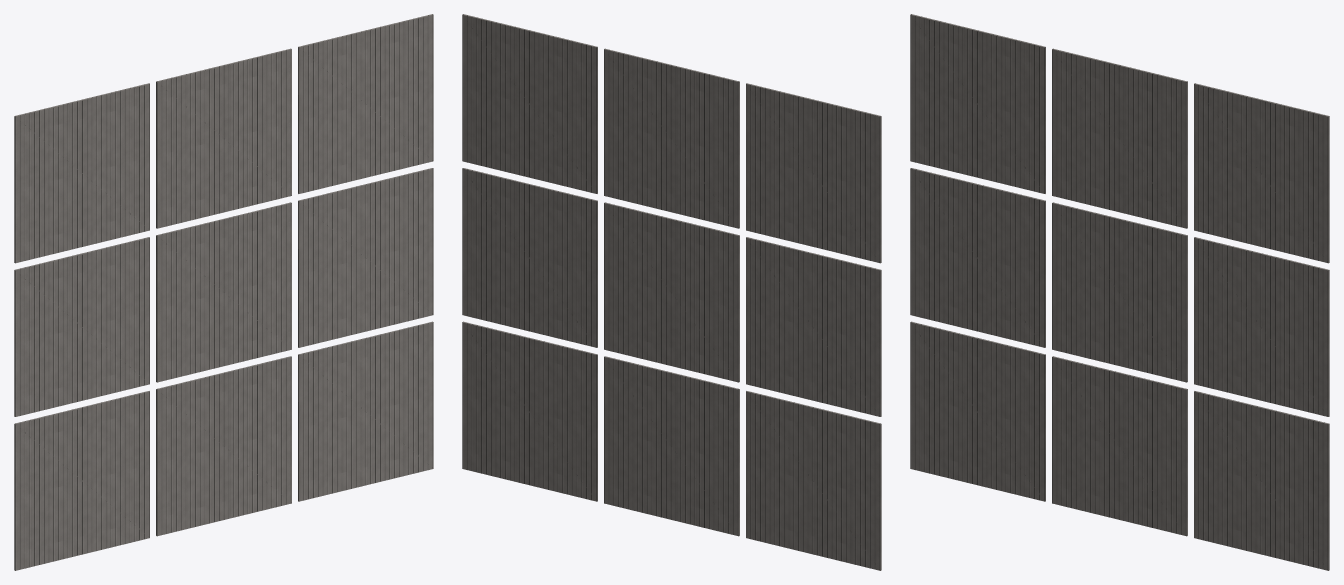
The model's file is ADSK.obj.
The picture shows the model from 3 angles, left to right: view 1: azimuth 30°, elevation 25°; view 2: azimuth 150°, elevation 25°; view 3: azimuth 330°, elevation 25°; orthographic projection.
Bounding box in the file's own units: 2.43 × 2.52 × 0.01.
Materials: 1 (1 with a texture image).
